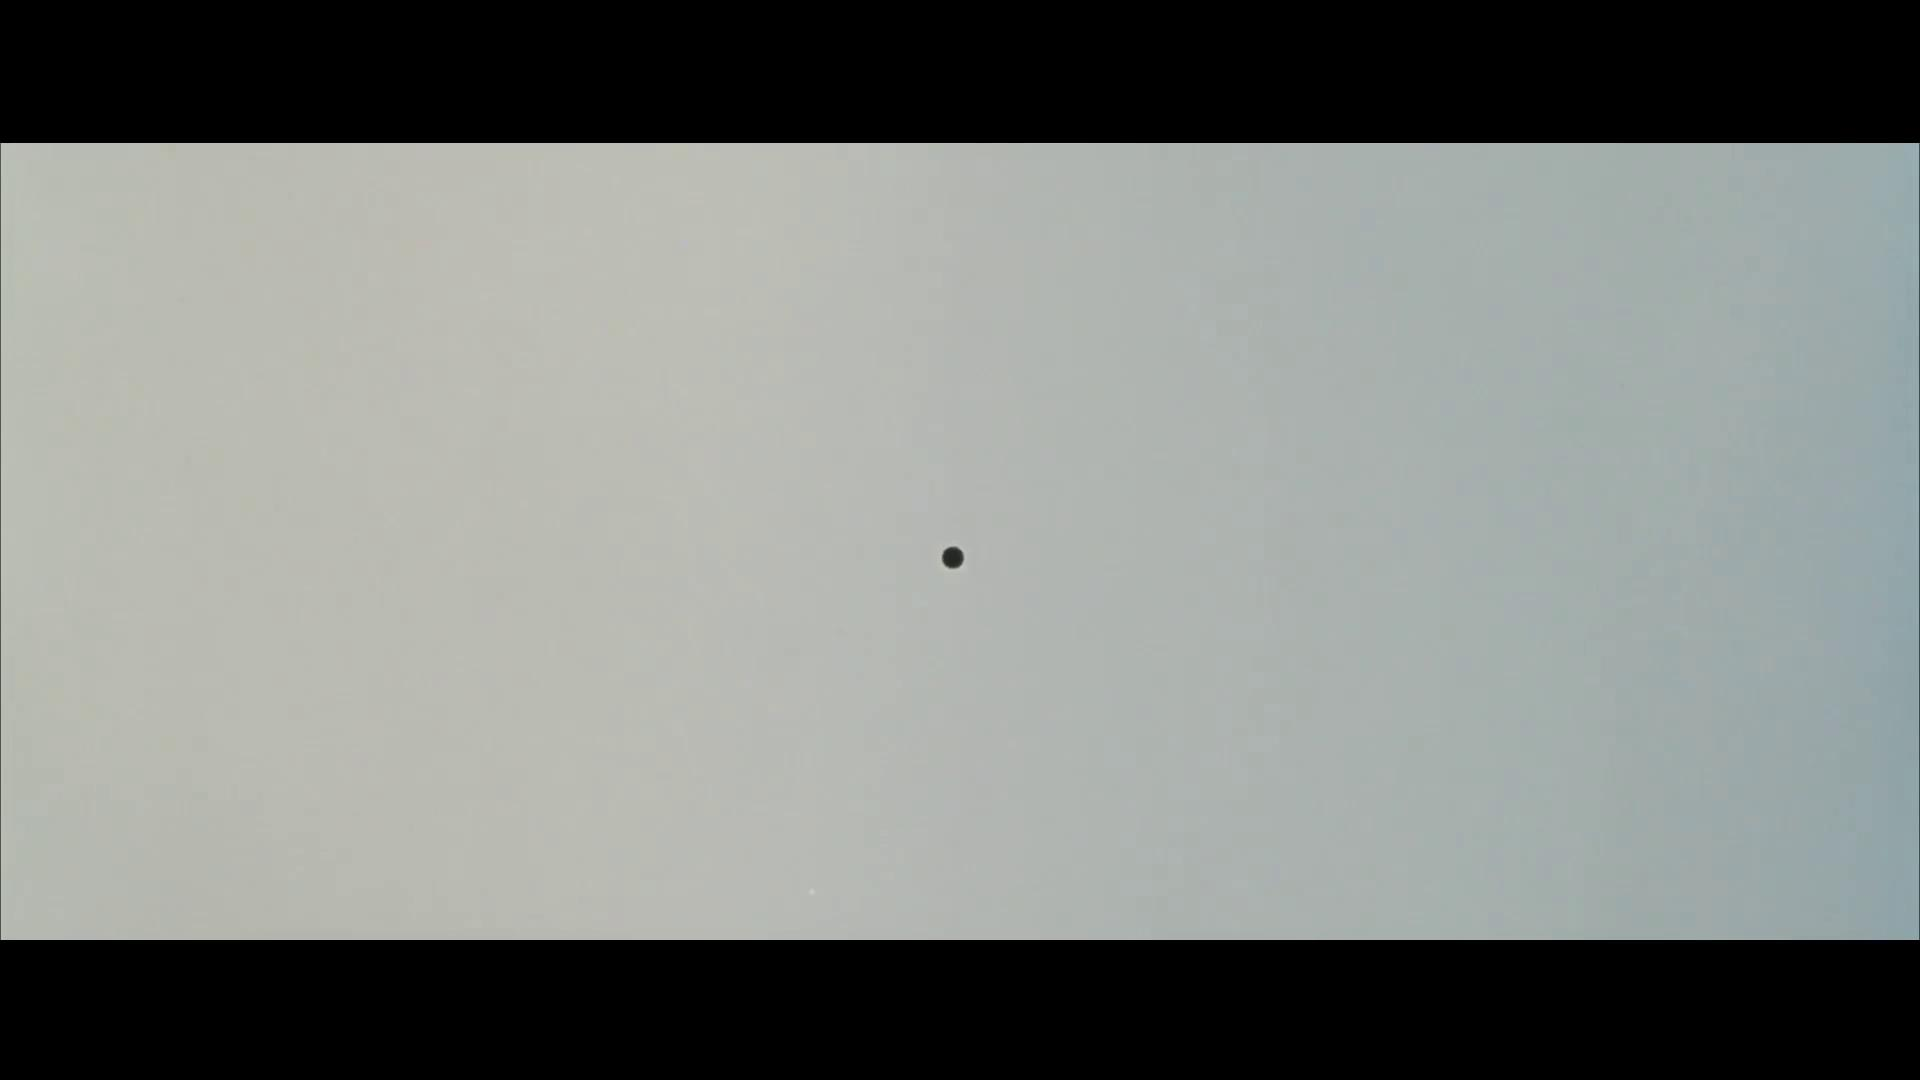bludger: (939, 542, 971, 572)
